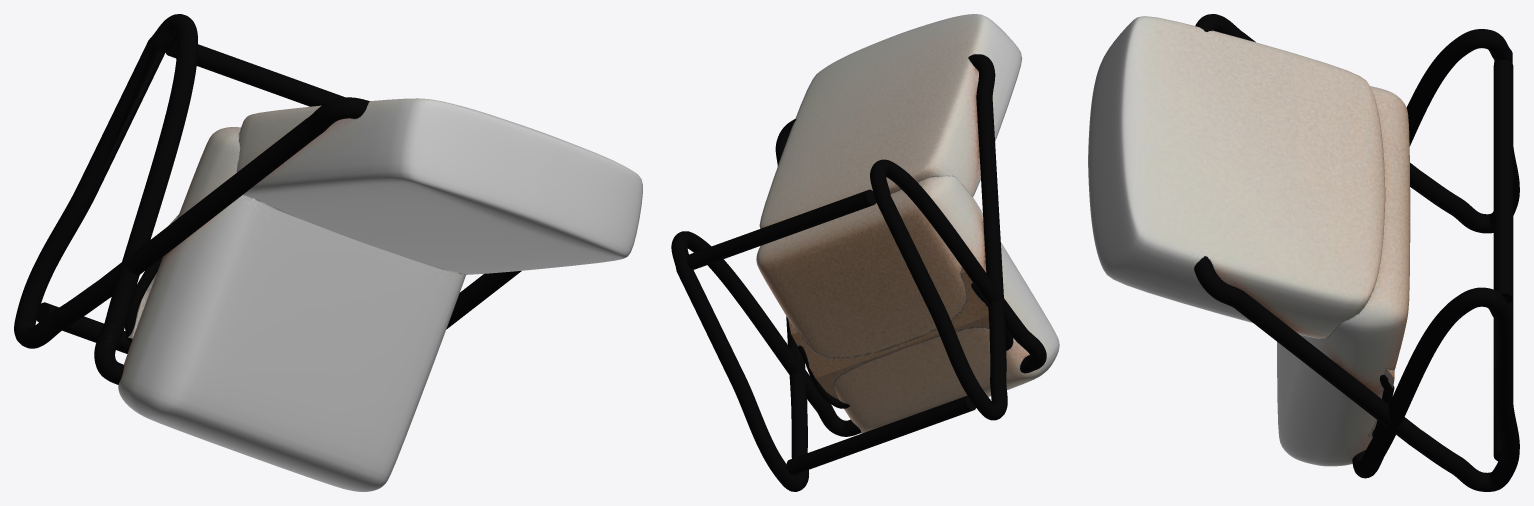
Rendered from B1_chair_final_2.obj.
3 views of the same model, side by side, from view 1: azimuth 30°, elevation 25°; view 2: azimuth 150°, elevation 25°; view 3: azimuth 270°, elevation 25° (orthographic). The views are drawn at different scales.
Parts seen in each view (by area): view 1: B1_chair_final_2.001; view 2: B1_chair_final_2.001; view 3: B1_chair_final_2.001.
Part boxes in pixels (box(x1,y1,x2,y2)): B1_chair_final_2.001: box(14, 14, 642, 491); B1_chair_final_2.001: box(671, 14, 1059, 491); B1_chair_final_2.001: box(1088, 14, 1519, 491).
Size of the model in its own units: 0.9179 by 0.9761 by 0.848.
1 material, 1 textured.
